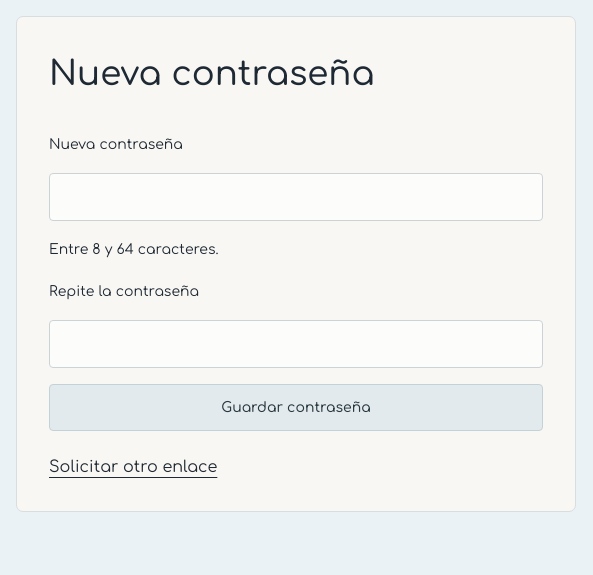
Test case: Recuperación de contraseña › permite solicitar otro enlace si ha caducado
Type "NewPassword123" into the password field with id "new-password".
click(296, 197); type("NewPassword123")  # box [49,173,543,221]
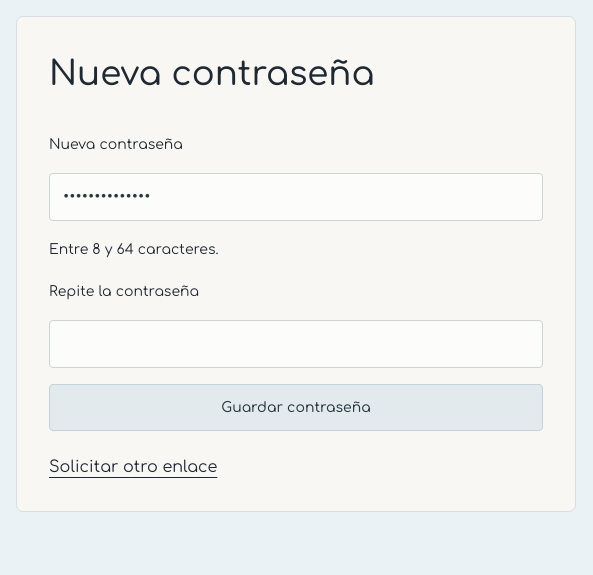
Type "NewPassword123" into the password field with id "confirm-password".
click(296, 344); type("NewPassword123")  # box [49,320,543,368]
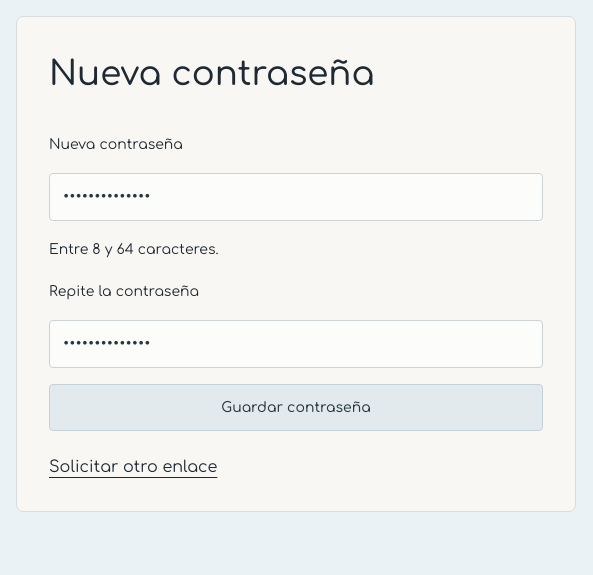
Submit the form, box [49,132,543,431]
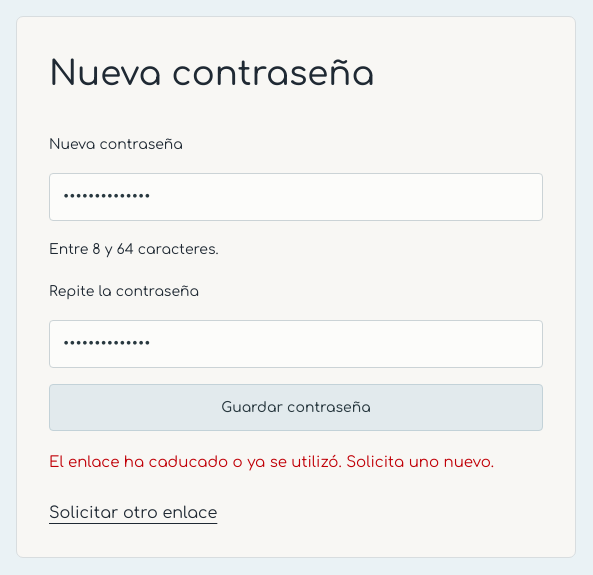
Expected: the link to "/forgot-password" is shown, [49,501,217,525]
Expected: the message "El enlace ha caducado o ya se utilizó. Solicita uno nuevo." is shown, [49,449,543,477]
